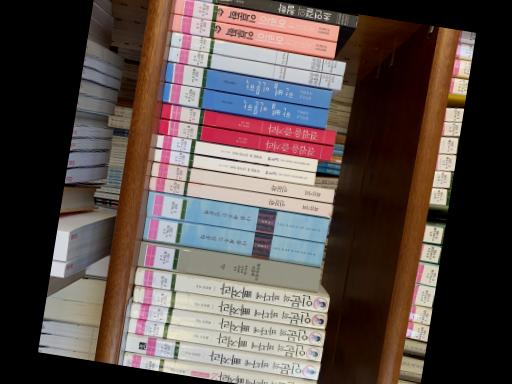book-spine: (144, 191, 328, 243), (136, 241, 319, 292), (142, 216, 323, 267), (124, 334, 319, 380), (134, 268, 329, 312), (128, 303, 324, 346), (126, 318, 322, 361), (131, 286, 326, 329), (163, 61, 331, 108), (169, 31, 345, 75), (160, 83, 328, 128), (148, 176, 331, 217), (167, 46, 341, 89), (149, 162, 332, 202), (160, 103, 335, 144), (157, 119, 332, 160), (170, 14, 335, 57), (173, 0, 338, 41), (122, 352, 316, 384), (154, 134, 316, 172), (152, 148, 314, 185), (204, 0, 357, 28)
